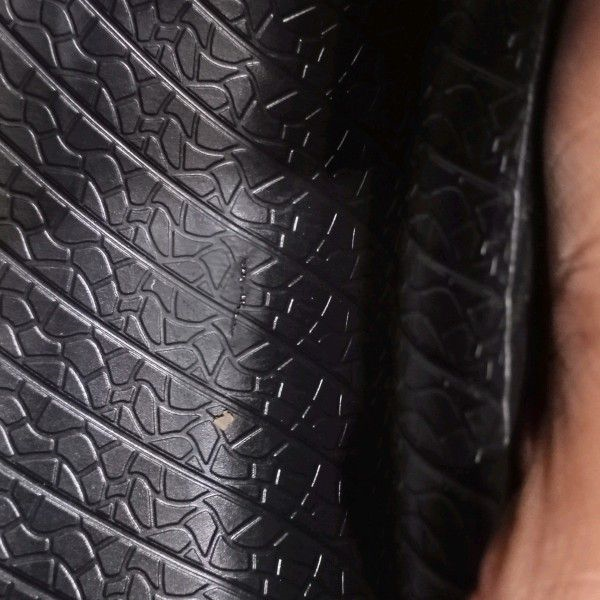cut: (227, 254, 250, 344)
